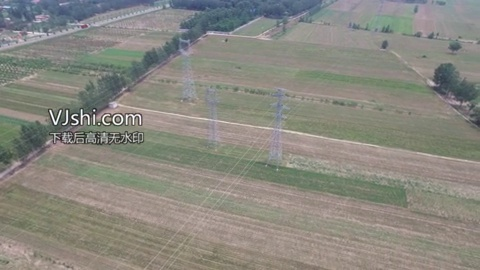tower_up: (265, 88, 291, 168), (174, 37, 198, 101), (202, 86, 223, 146)
